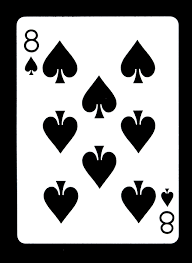eight of spades: (15, 15, 179, 245)
